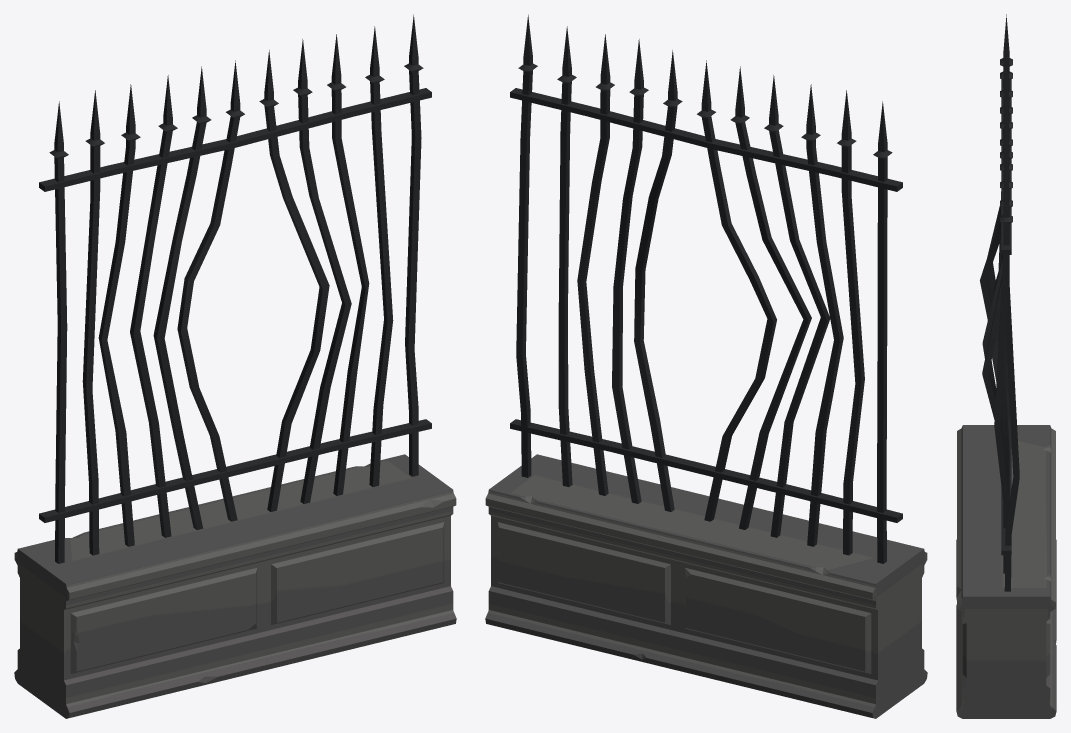
Rendered from SM_Bld_Fence_01_Broken_02.fbx.
3 renders of one model, left to right at view 1: azimuth 30°, elevation 25°; view 2: azimuth 150°, elevation 25°; view 3: azimuth 270°, elevation 25°, orthographic. The views are drawn at different scales.
Parts seen in each view (by area): view 1: SM_Bld_Fence_01_Broken_02; view 2: SM_Bld_Fence_01_Broken_02; view 3: SM_Bld_Fence_01_Broken_02.
Part boxes in pixels (box(x1,y1,x2,y2)): SM_Bld_Fence_01_Broken_02: box(14, 14, 456, 718); SM_Bld_Fence_01_Broken_02: box(485, 14, 927, 718); SM_Bld_Fence_01_Broken_02: box(956, 14, 1056, 718).
Size of the model in its own units: 250 by 370 by 61.79.
